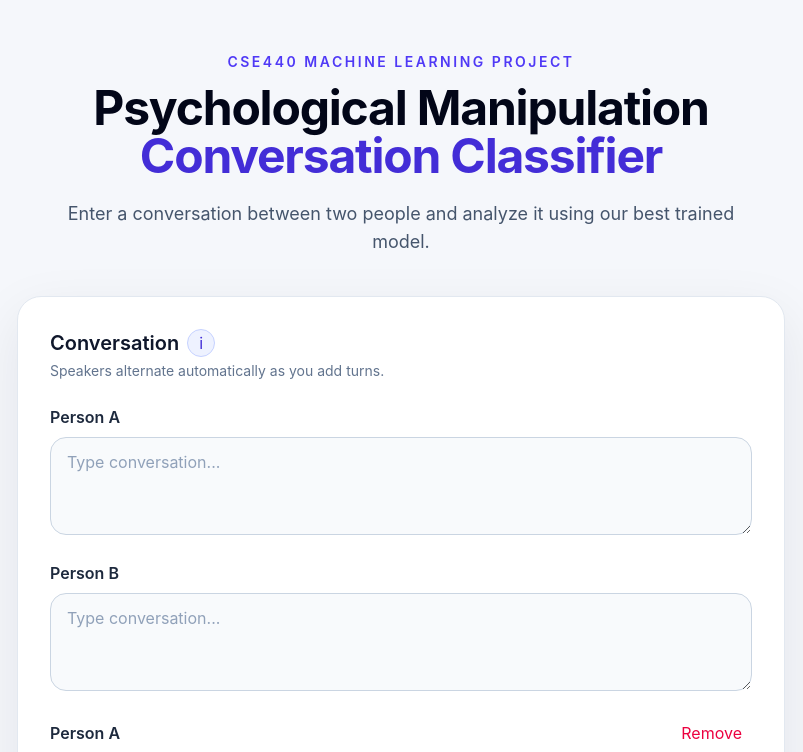
Scenario: ConversationClassifier › explains when a deployment is missing the prediction API
This screenshot has width=803, height=752.
Type "Hello" into the 1st text box with placeholder "Type conversation...". click: [401, 486]
box: 50,437 -> 752,535
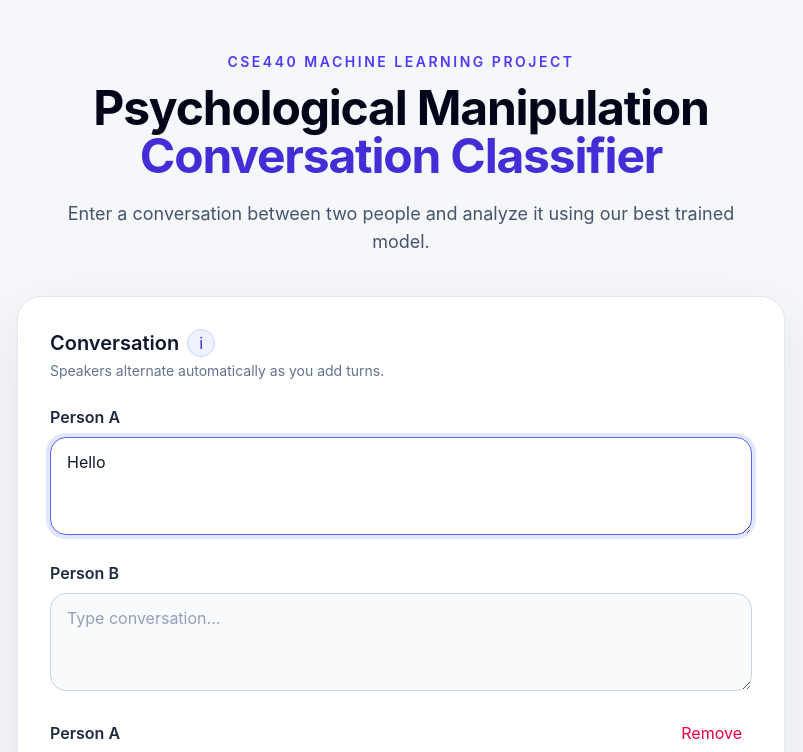
Type "Hi" into the text box with placeholder "Type conversation...". click: [401, 642]
box: 50,593 -> 752,691
(page scrolled)
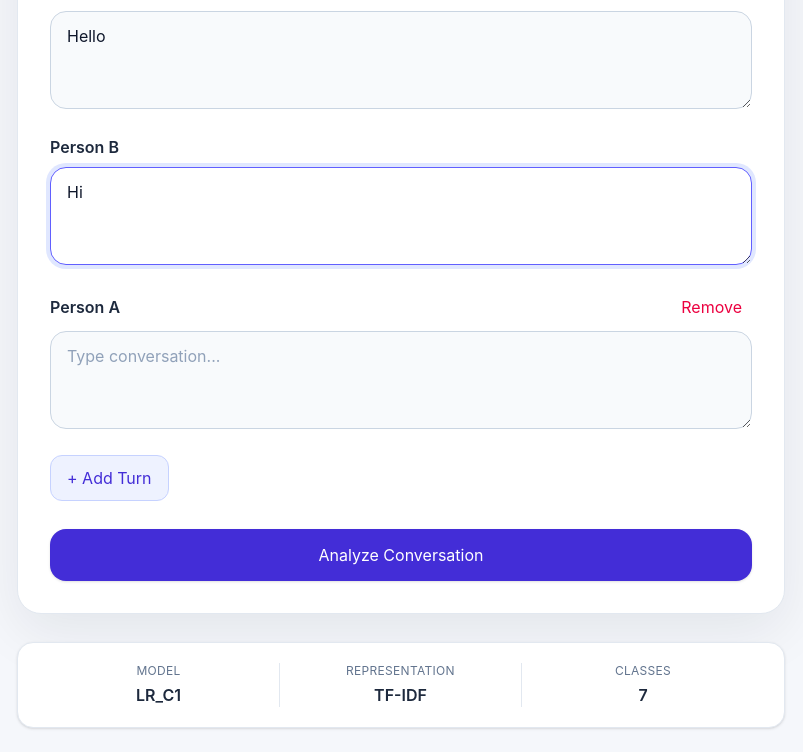
Type "How are you?" into the 2nd text box with placeholder "Type conversation...". click: [401, 380]
box: 50,331 -> 752,429
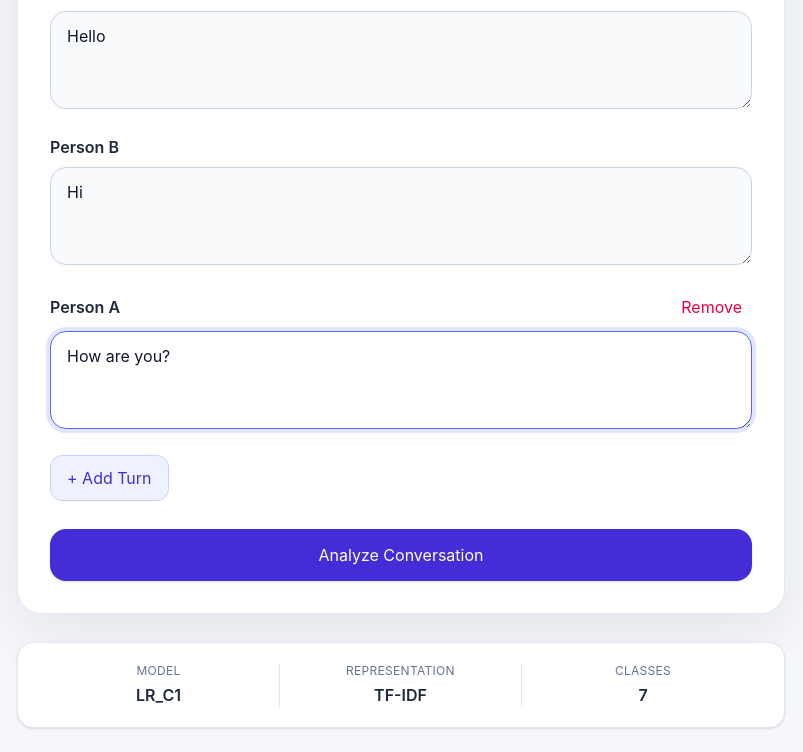
Click the button "Analyze Conversation". click: [401, 555]
box: 50,529 -> 752,581
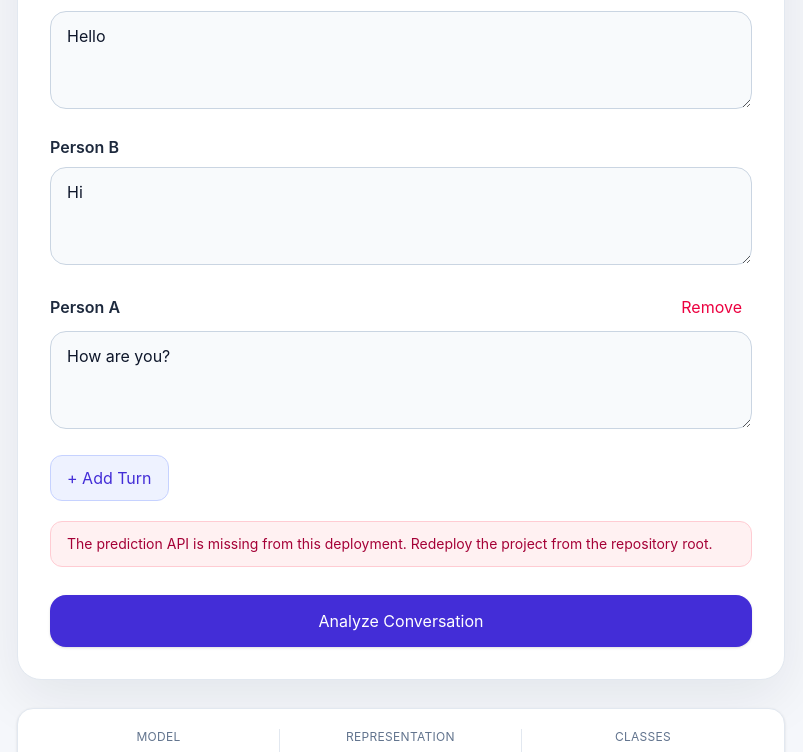
expect the message shows "The prediction API is missing from this deployment.": met, box 67,535 -> 713,552
